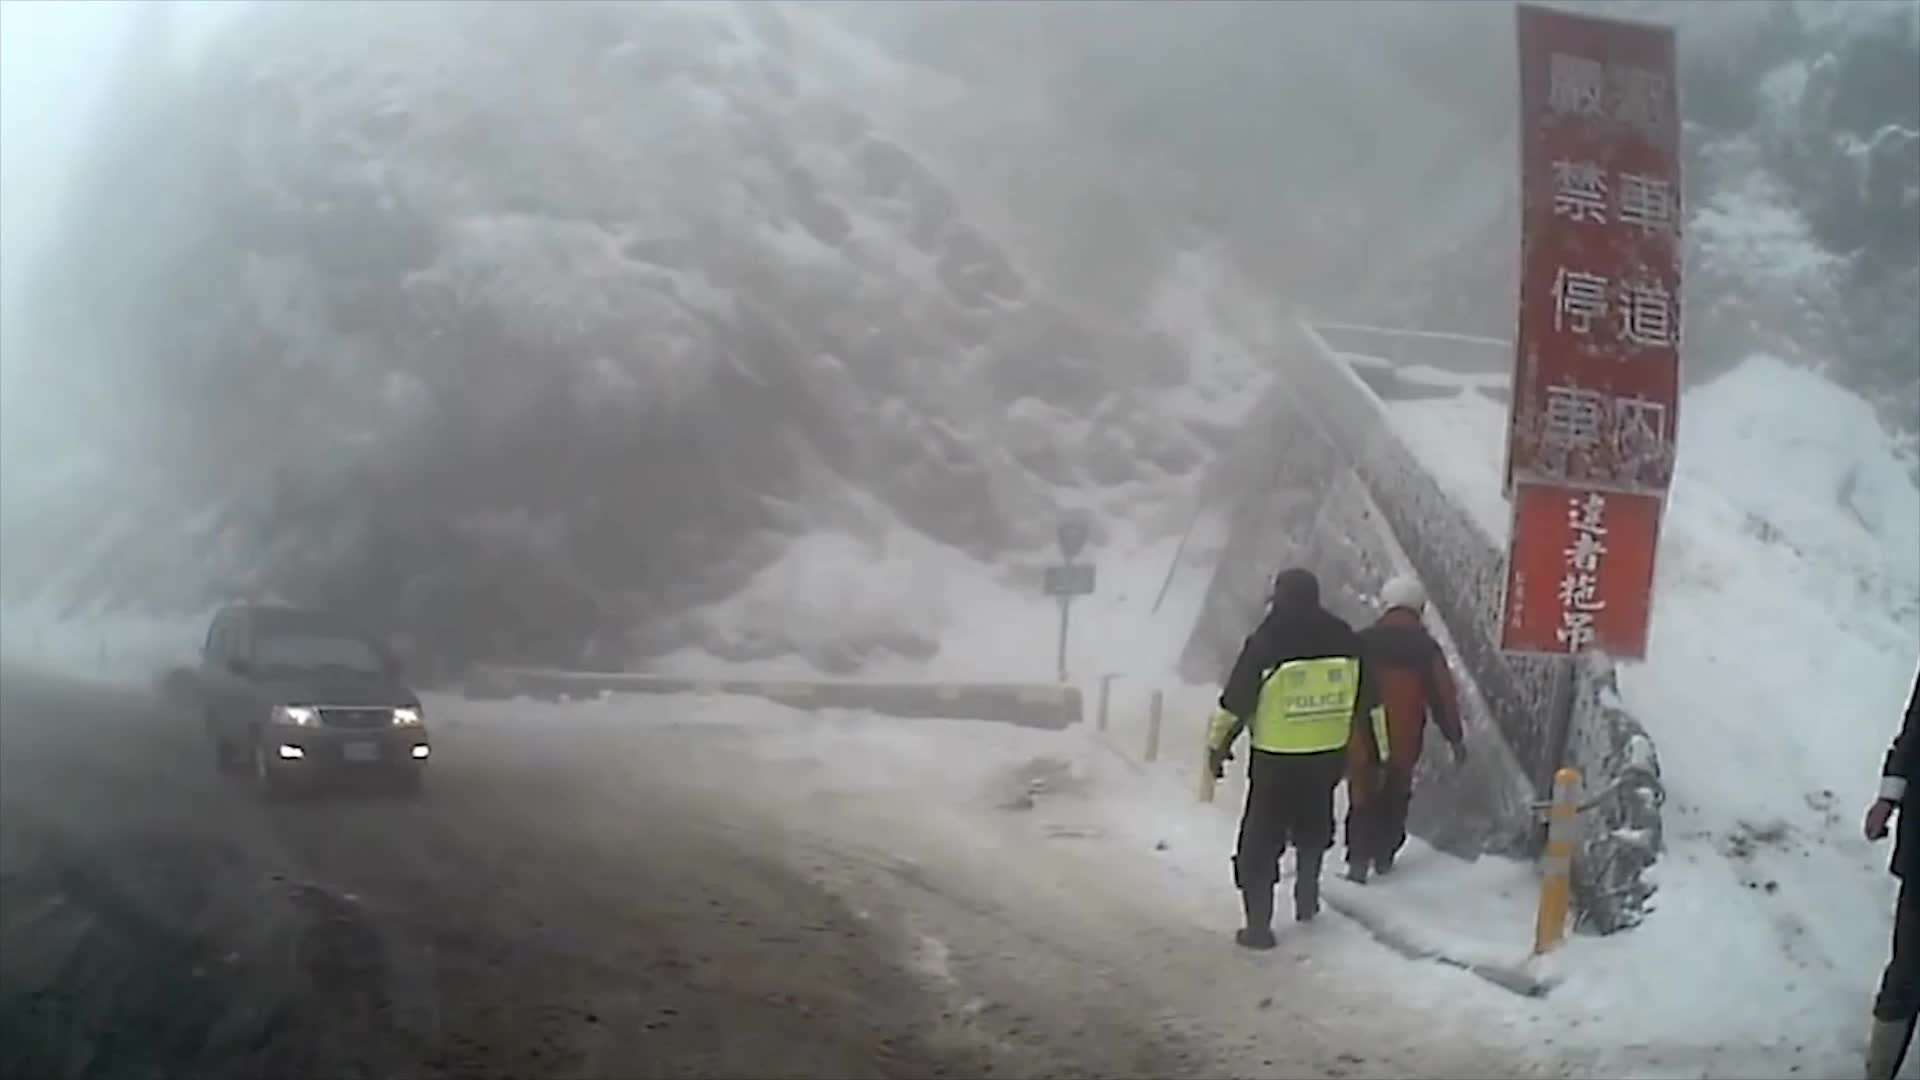pedestrian: (1202, 569, 1392, 952), (1334, 571, 1468, 883)
vehicle: (194, 599, 429, 798)
